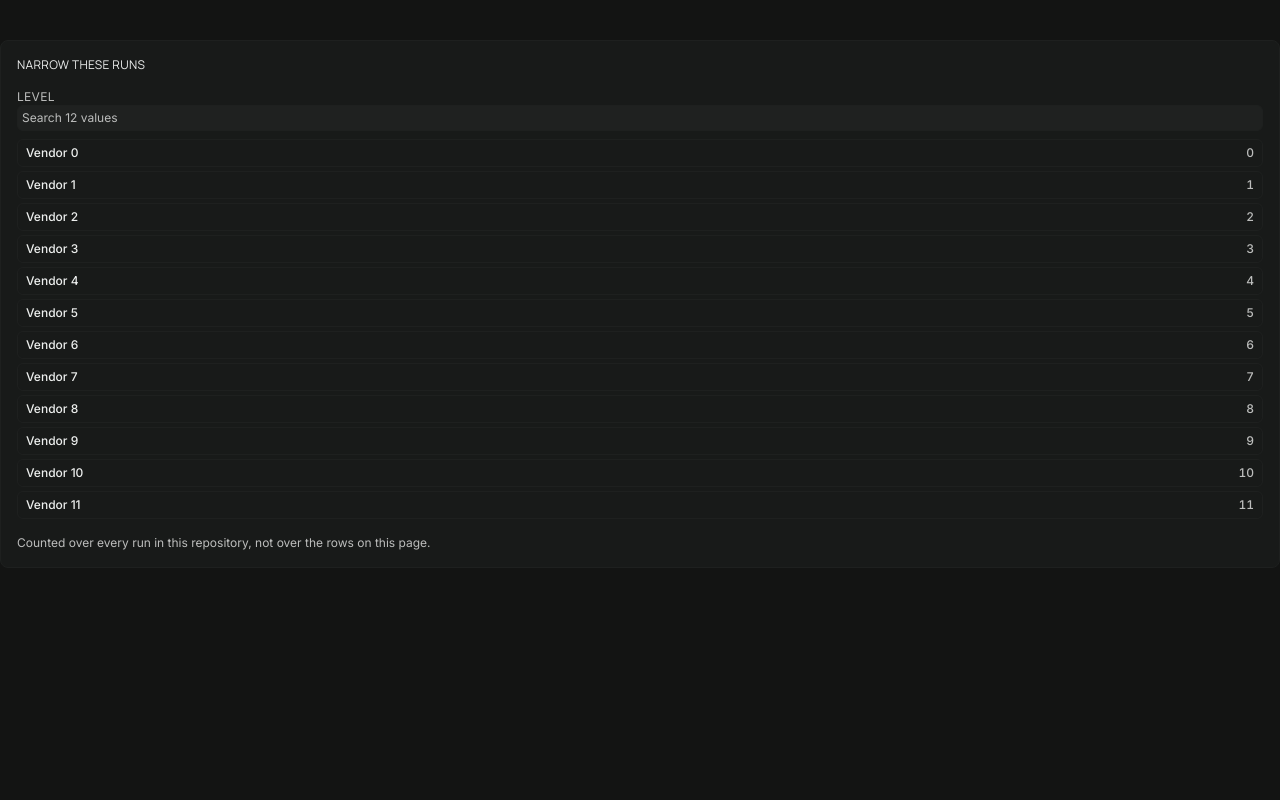
Scenario: multi-select and per-facet search (M15 Task 4) › says the facet is not empty when a term matches none of it
The image size is (1280, 800).
Type "zzz" into the search field.
click(640, 118); type("zzz")  # box [17, 105, 1263, 131]
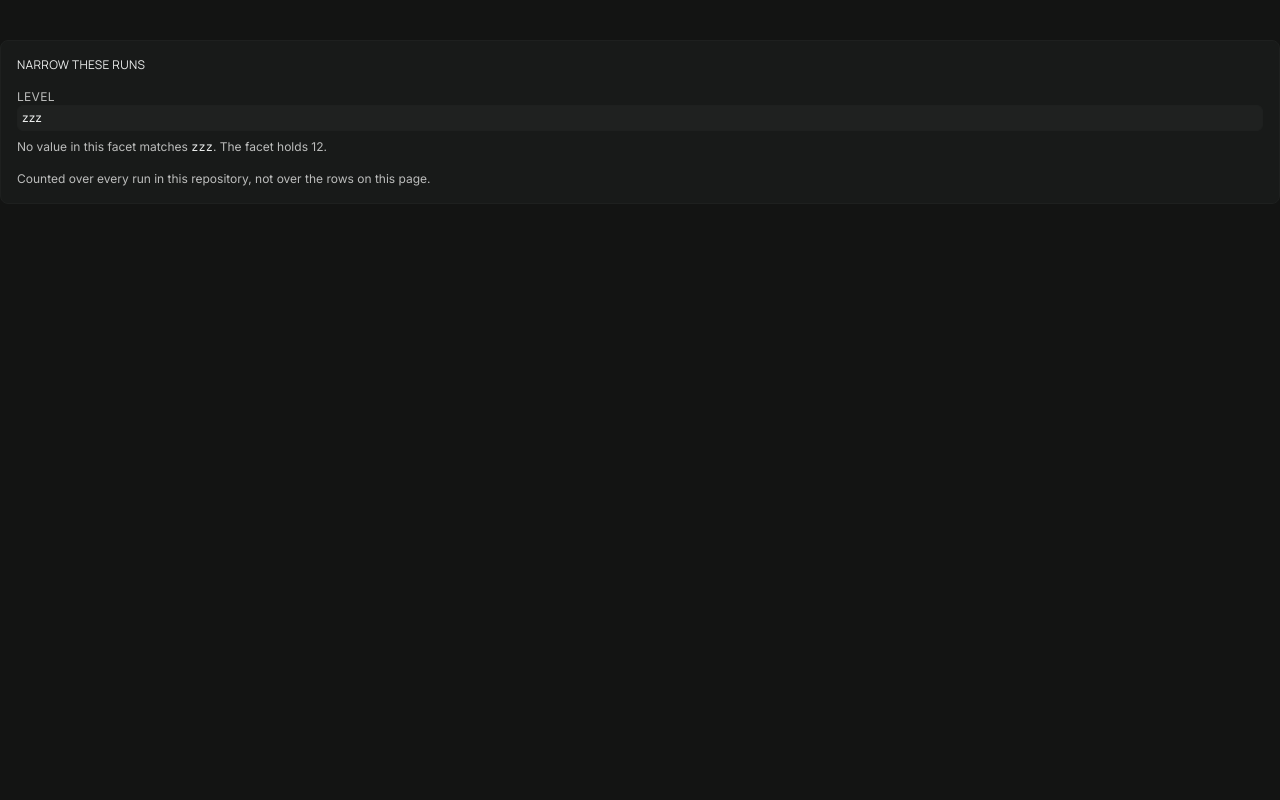
Expected: the text "No value in this facet matches zzz. The facet holds 12." is shown, [17, 139, 327, 155]
